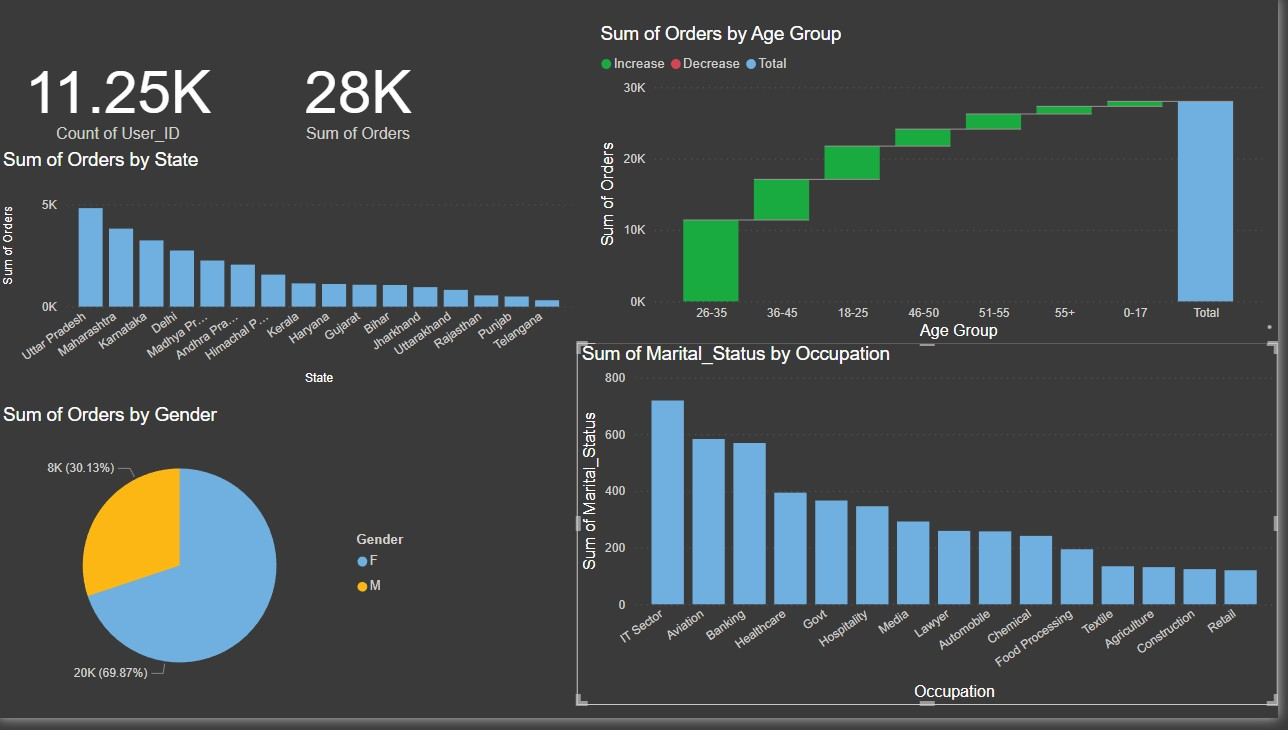

The page's visual inventory and layout, read from the dashboard file:
{"tool":"powerbi","page":{"name":"Page 1","canvas":[1280,720],"ordinal":0},"visuals":[{"type":"card","fields":{"Values":["CountNonNull(Diwali Sales Data.User_ID)"]},"box":[0,0,239.9,196.1],"z":0},{"type":"card","fields":{"Values":["Sum(Diwali Sales Data.Orders)"]},"box":[239.9,0,239.9,196.1],"z":1000},{"type":"pieChart","fields":{"Category":["Diwali Sales Data.Gender"],"Y":["Sum(Diwali Sales Data.Orders)"]},"box":[0,405.8,430.5,301.6],"z":2000},{"type":"clusteredColumnChart","fields":{"Y":["Sum(Diwali Sales Data.Marital_Status)"],"Category":["Diwali Sales Data.Occupation"]},"box":[578.6,345.5,702,362],"z":3000},{"type":"waterfallChart","fields":{"Y":["Sum(Diwali Sales Data.Orders)"],"Category":["Diwali Sales Data.Age Group"]},"box":[597.8,24.7,671.8,320.8],"z":4000},{"type":"clusteredColumnChart","fields":{"Y":["Sum(Diwali Sales Data.Orders)"],"Category":["Diwali Sales Data.State"]},"box":[0,150.8,578.6,239.9],"z":4001}]}

Visuals, with their boxes in screenshot pixels (x1, y1, x2, y2), scaled from the page's 1280x720 canvas onto the 1288x730 screenshot:
card - CountNonNull(Diwali Sales Data.User_ID): (x1=0, y1=0, x2=241, y2=199)
card - Sum(Diwali Sales Data.Orders): (x1=241, y1=0, x2=483, y2=199)
pieChart - Diwali Sales Data.Gender x Sum(Diwali Sales Data.Orders): (x1=0, y1=411, x2=433, y2=717)
clusteredColumnChart - Sum(Diwali Sales Data.Marital_Status) x Diwali Sales Data.Occupation: (x1=582, y1=350, x2=1287, y2=717)
waterfallChart - Sum(Diwali Sales Data.Orders) x Diwali Sales Data.Age Group: (x1=602, y1=25, x2=1278, y2=350)
clusteredColumnChart - Sum(Diwali Sales Data.Orders) x Diwali Sales Data.State: (x1=0, y1=153, x2=582, y2=396)
